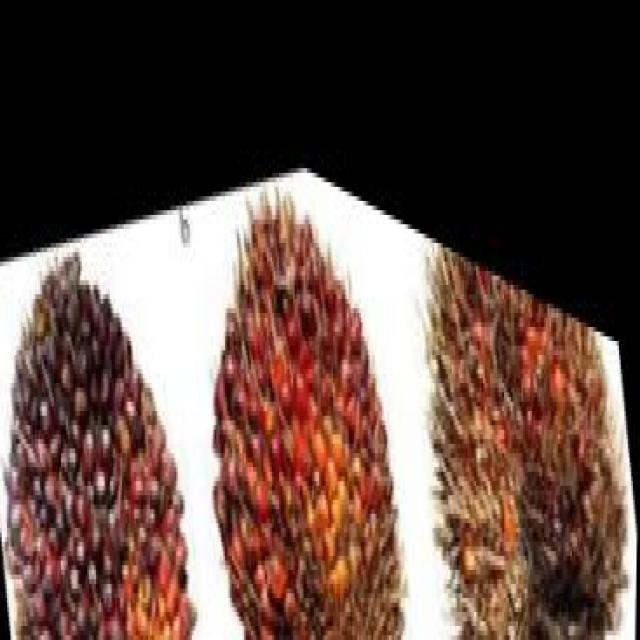Ripefruit: (183, 84, 441, 640)
